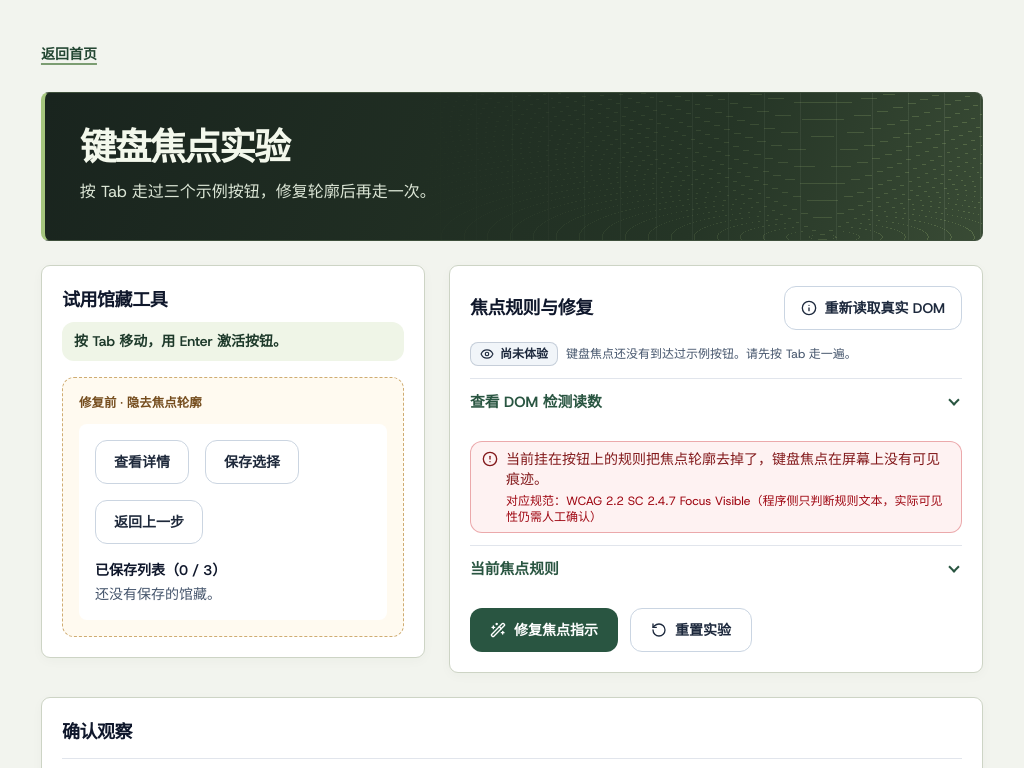
Test: KeyboardFocusLabPage · 三个按钮真的有用（要求 #7） › 「返回上一步」先承认没东西可撤，撤得动时数量真的回去
Click the button "返回上一步" at {"x": 149, "y": 522}, box [95,500,203,544]
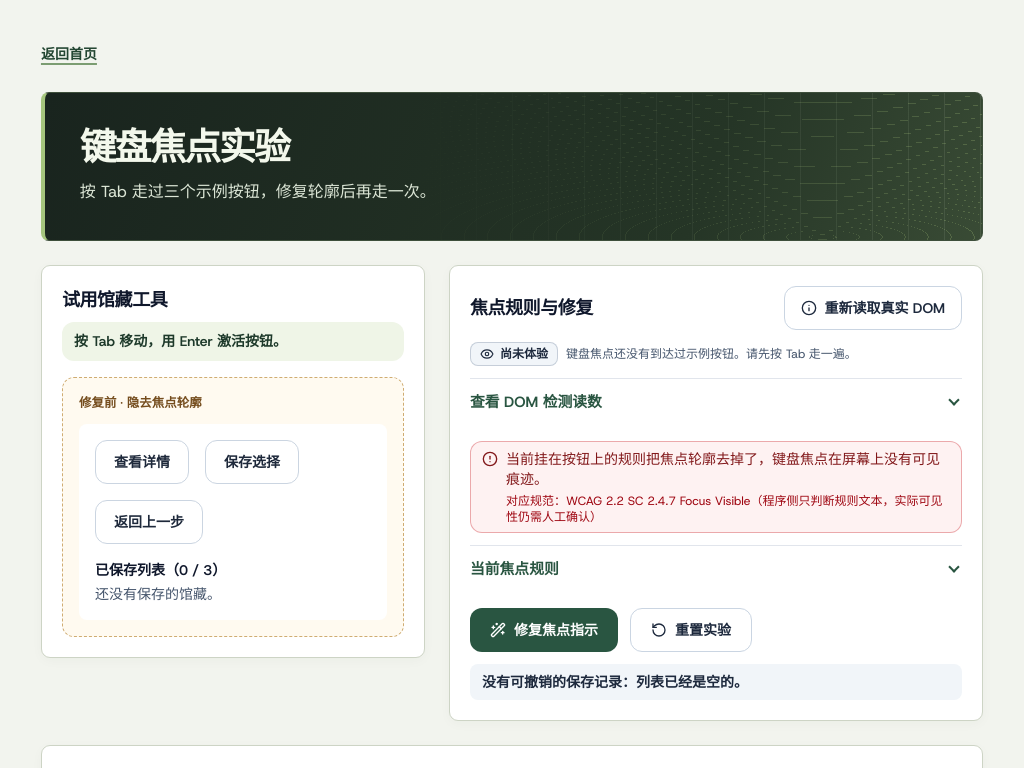
Expected: the text "已保存列表（0 / 3）" is shown, [95,561,226,579]
Result: the message "没有可撤销的保存记录：列表已经是空的。" is shown at [470,664,962,700]
Click the button "保存选择" at {"x": 252, "y": 462}, box [205,440,299,484]
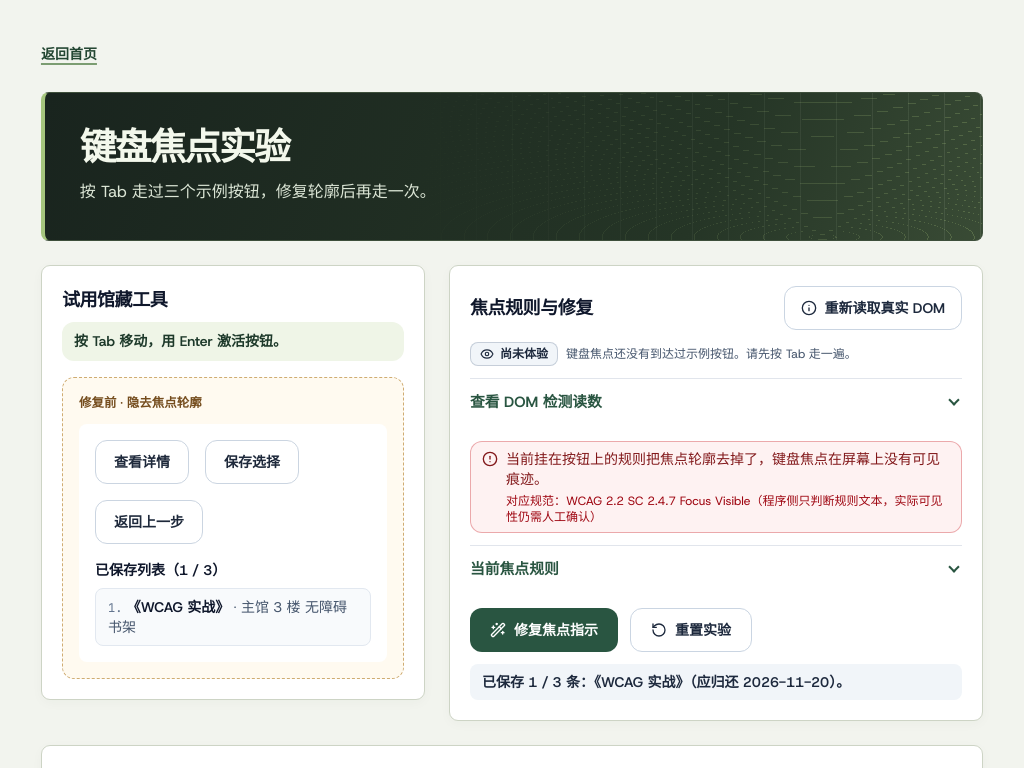
Result: the text "已保存列表（1 / 3）" is shown at [95,561,226,579]
Click the button "返回上一步" at {"x": 149, "y": 522}, box [95,500,203,544]
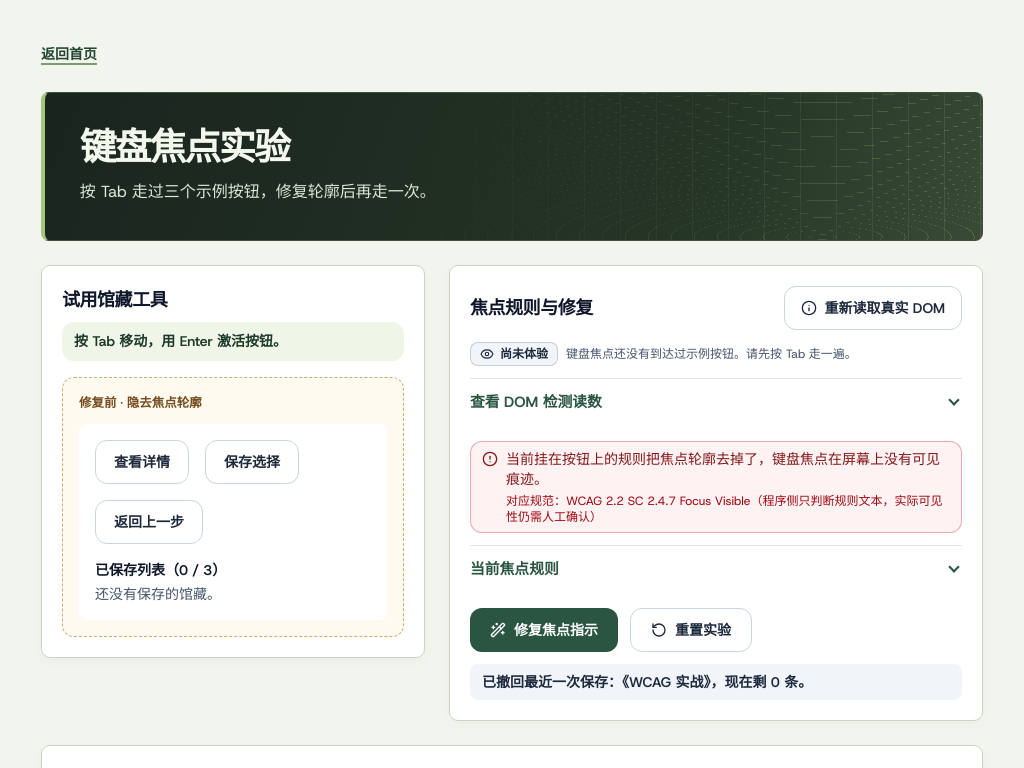
Result: the text "已保存列表（0 / 3）" is shown at [95,561,226,579]
Result: the message "已撤回最近一次保存：《WCAG 实战》，现在剩 0 条。" is shown at [470,664,962,700]
